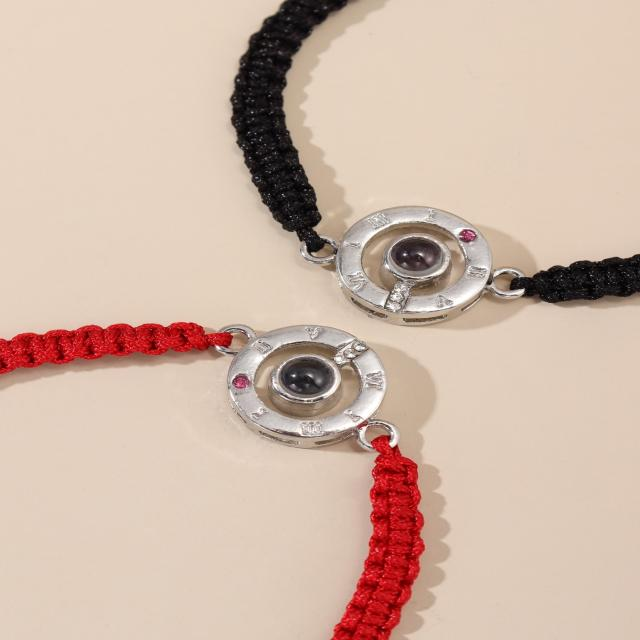bracelet: (0, 250, 634, 640), (143, 1, 640, 339)
